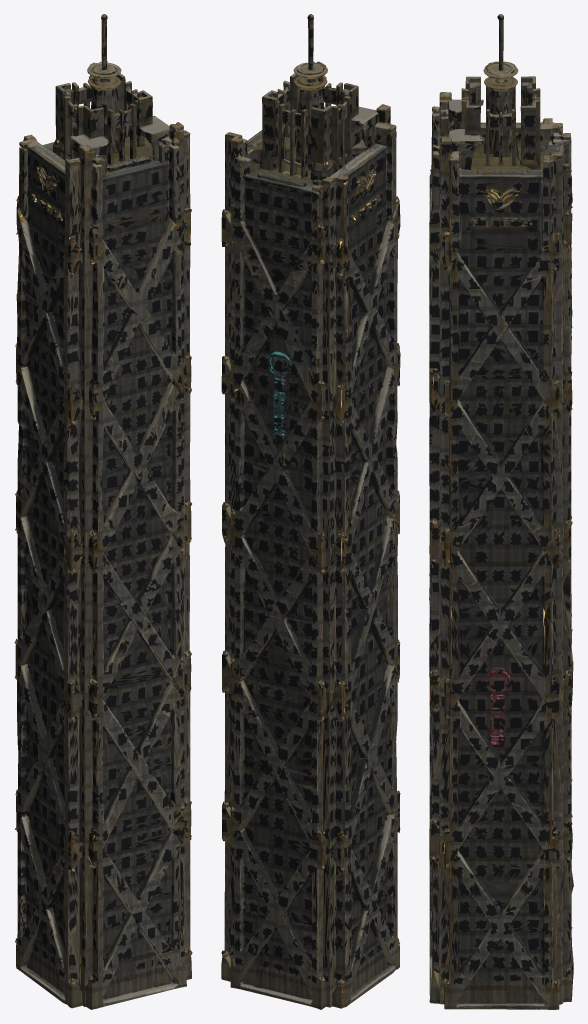
3 renders of one model, left to right at view 1: azimuth 30°, elevation 25°; view 2: azimuth 150°, elevation 25°; view 3: azimuth 270°, elevation 25°, orthographic.
Visible parts, largest first — view 1: t03; view 2: t03; view 3: t03.
Part boxes in pixels (left/top/right/bottom): t03: left=14, top=14, right=192, bottom=1009; t03: left=221, top=14, right=400, bottom=1009; t03: left=429, top=14, right=573, bottom=1009.
Bounding box in the file's own units: 28.29 × 210 × 28.49.
1 material, 1 textured.
